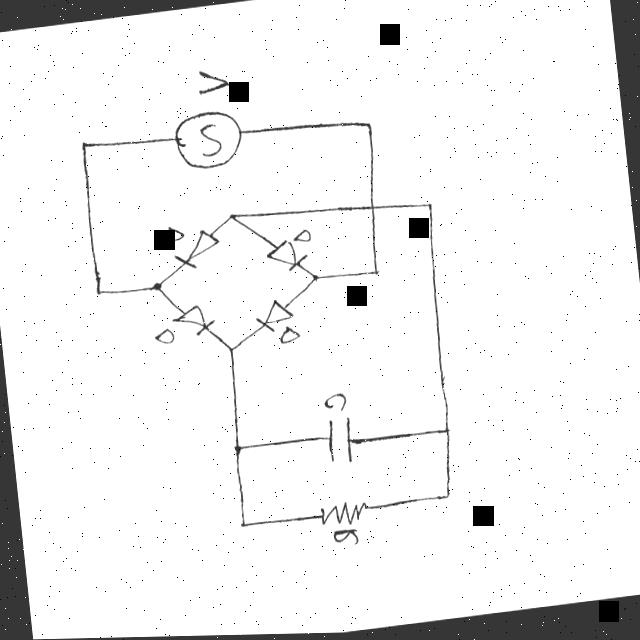capacitor: (319, 416, 356, 469)
crossover: (365, 203, 377, 215)
diode: (170, 228, 222, 273), (262, 237, 310, 276), (168, 302, 217, 338), (251, 297, 295, 336)
junction: (89, 284, 107, 300), (147, 280, 164, 295), (222, 211, 239, 225), (365, 268, 382, 280), (76, 139, 91, 152), (235, 519, 250, 531), (438, 492, 452, 504), (307, 273, 320, 285), (421, 202, 435, 213), (441, 426, 452, 439), (225, 344, 238, 354), (230, 444, 243, 454), (361, 121, 374, 131)
resistor: (316, 497, 369, 531)
source: (170, 107, 245, 174)
text: (192, 69, 230, 97), (330, 527, 361, 550), (319, 393, 349, 416), (276, 324, 300, 346), (151, 328, 177, 347), (162, 225, 184, 245), (291, 229, 312, 244)
